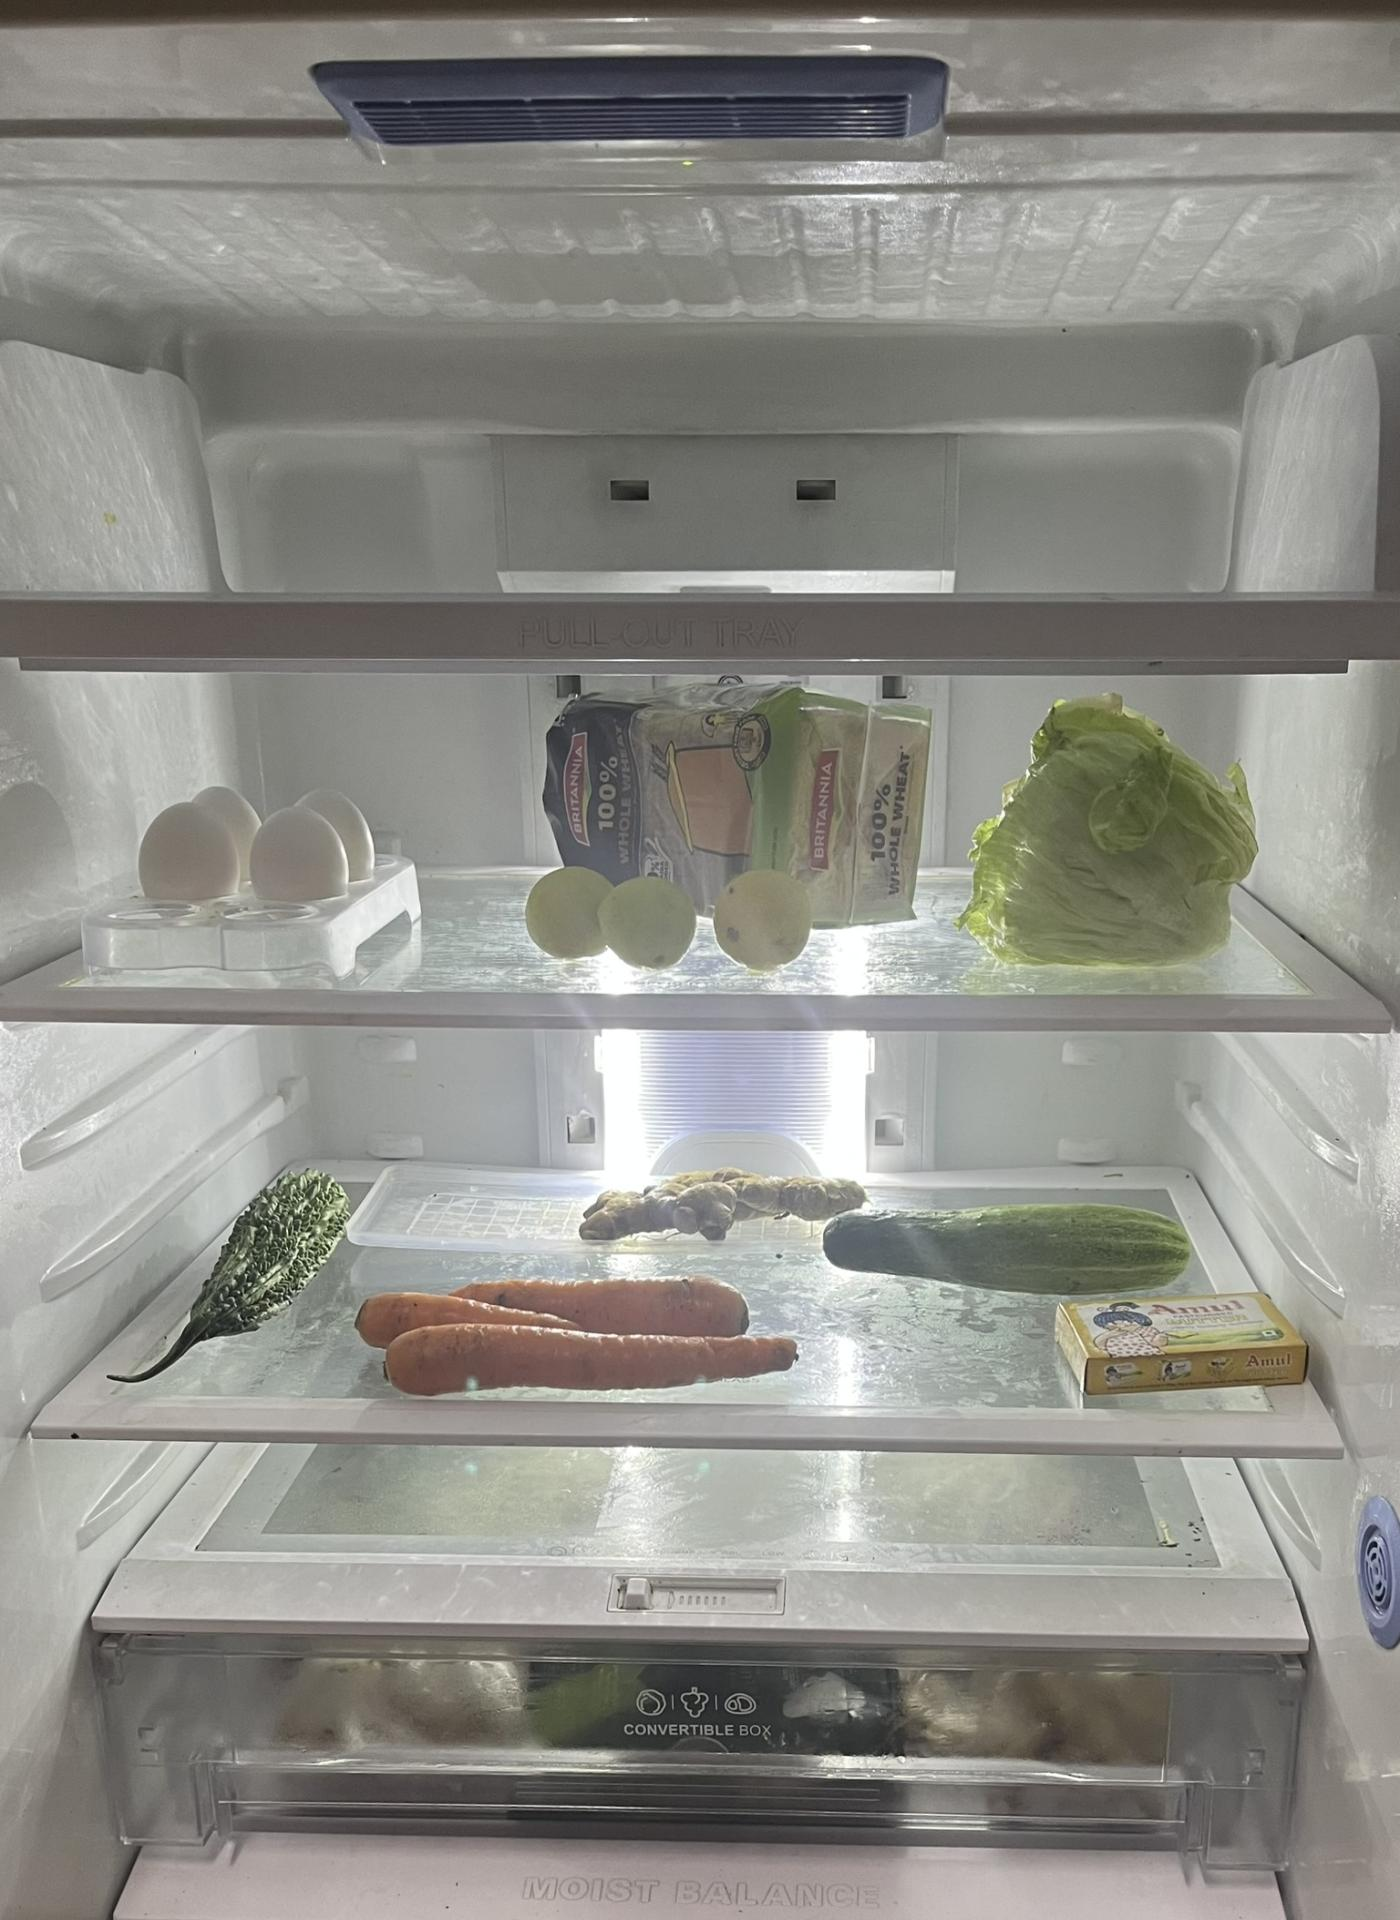bitter gourd: (127, 1170, 350, 1373)
bread: (544, 686, 920, 926)
butter: (1057, 1297, 1311, 1407)
carrots: (355, 1276, 798, 1395)
cucumber: (822, 1206, 1191, 1298)
egg: (136, 784, 370, 917)
ginger: (580, 1167, 866, 1251)
lemon: (969, 692, 1257, 966), (522, 863, 819, 976)
